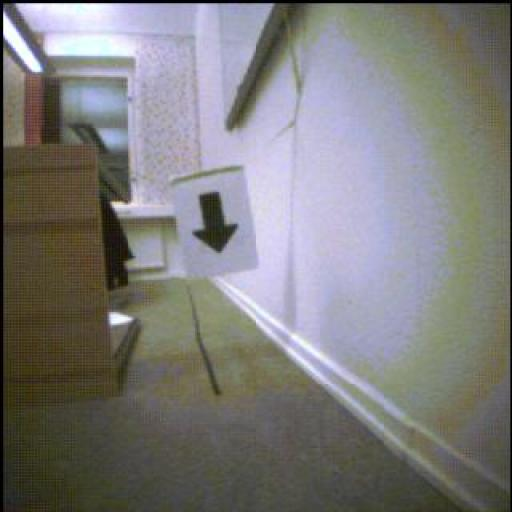arrow: (195, 193, 240, 254)
